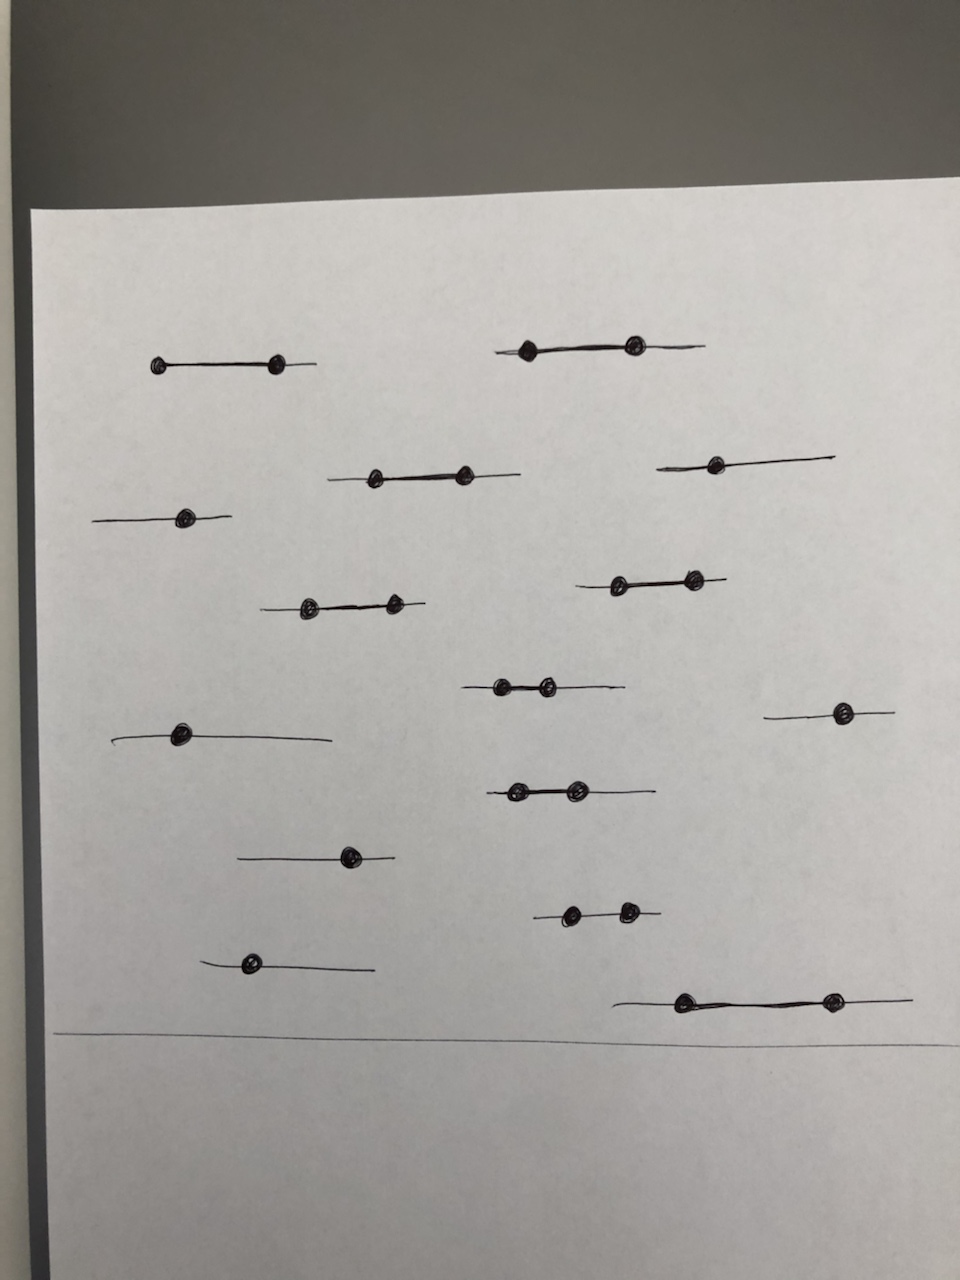slider: (612, 982, 918, 1024), (101, 716, 347, 760), (230, 828, 401, 884), (324, 457, 532, 502), (647, 437, 841, 486), (197, 945, 387, 993), (450, 668, 638, 716), (146, 339, 320, 388), (490, 331, 707, 369), (473, 775, 674, 813), (563, 563, 736, 605), (84, 492, 241, 537), (254, 589, 441, 626), (524, 893, 679, 936), (748, 694, 909, 735)
